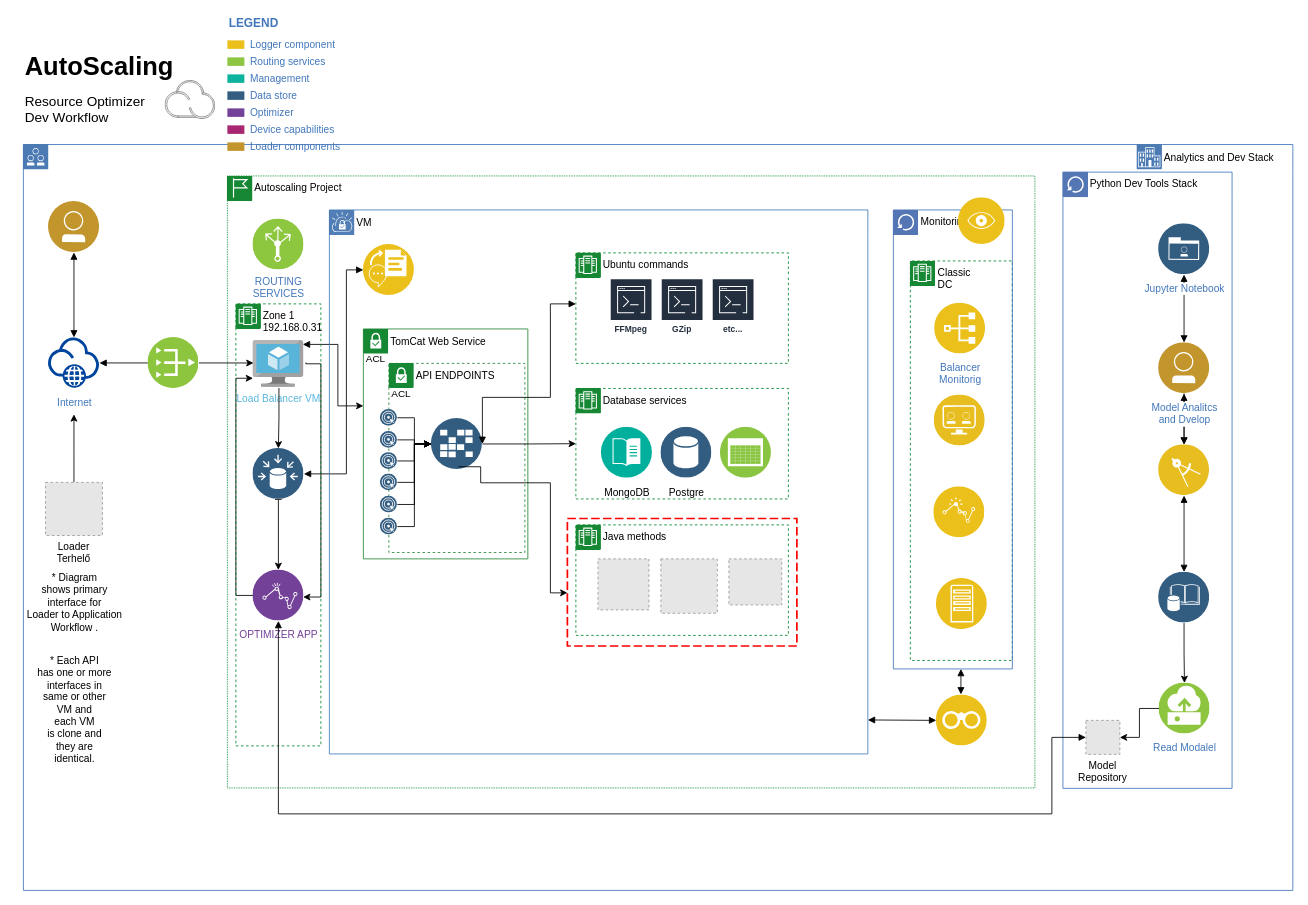
The diagram is 1308 pixels wide and 905 high, and some of its shapes have lost their labels. Grey dashed boxes stand in for pictures. The shapes that lost their labels are listed below. From the top down, each one's centre as x and y in pixels, then its label:
(35,157): Public Network
(73,226): User
(388,269): System Metric Logger
(172,362): Public Gateway
(959,419): Web App Monitoring
(456,443): JAVA SPRING WEB SERVICE
(745,452): MySQL
(277,473): METRICS COLLECTOR
(1183,469): Backtest the Model
(958,511): Traffic Monitoring
(961,603): Log Storage
(1183,597): Save, Product
(961,719): Visualisation Web UI
